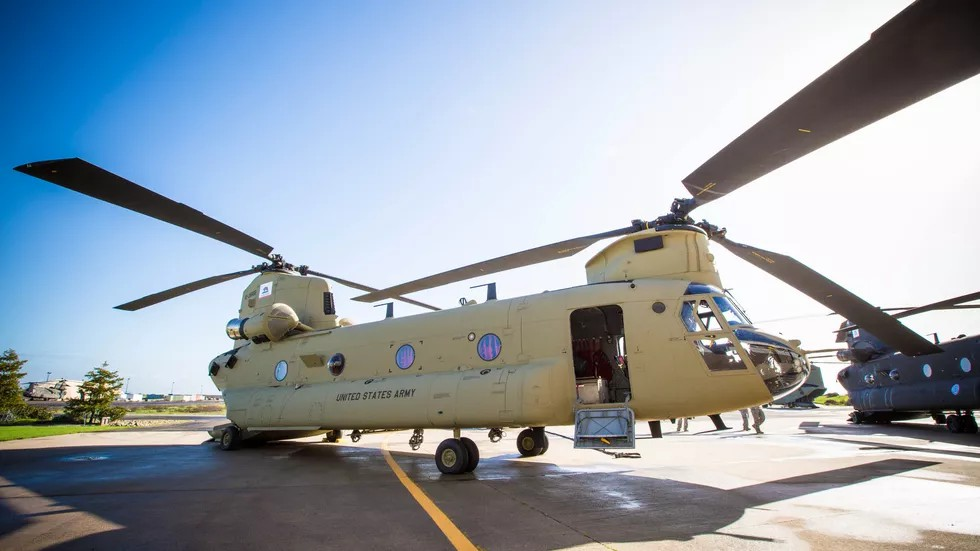chinook: (163, 210, 826, 480), (839, 305, 980, 430)
